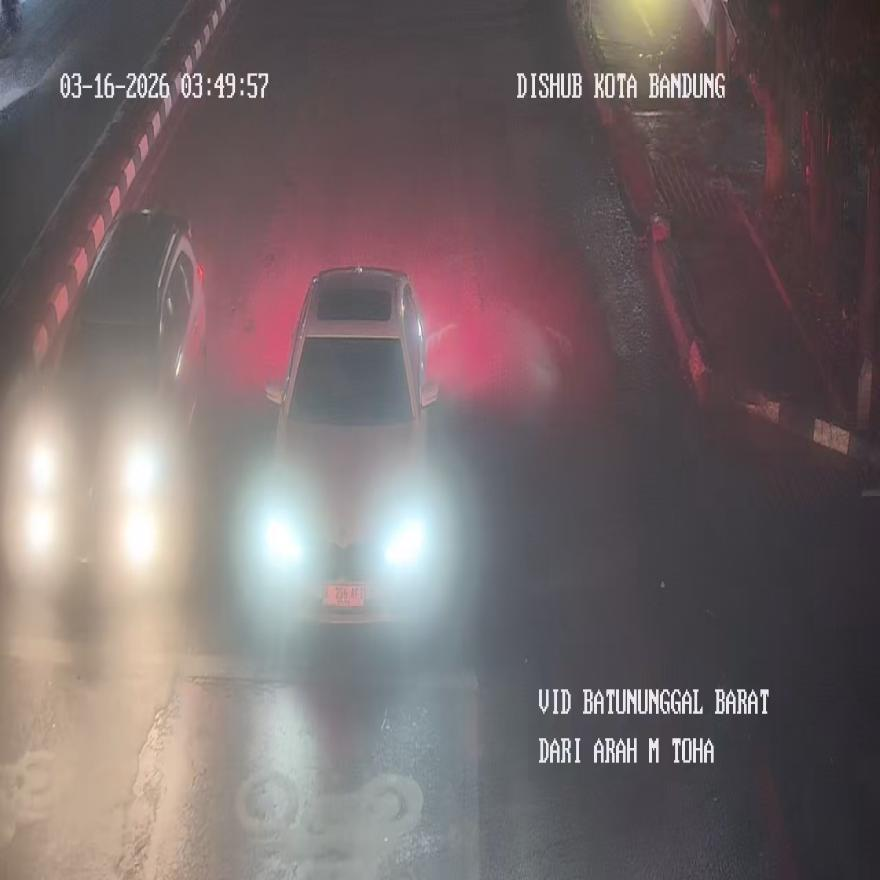Mobil: (3, 210, 207, 589), (242, 266, 449, 630)
